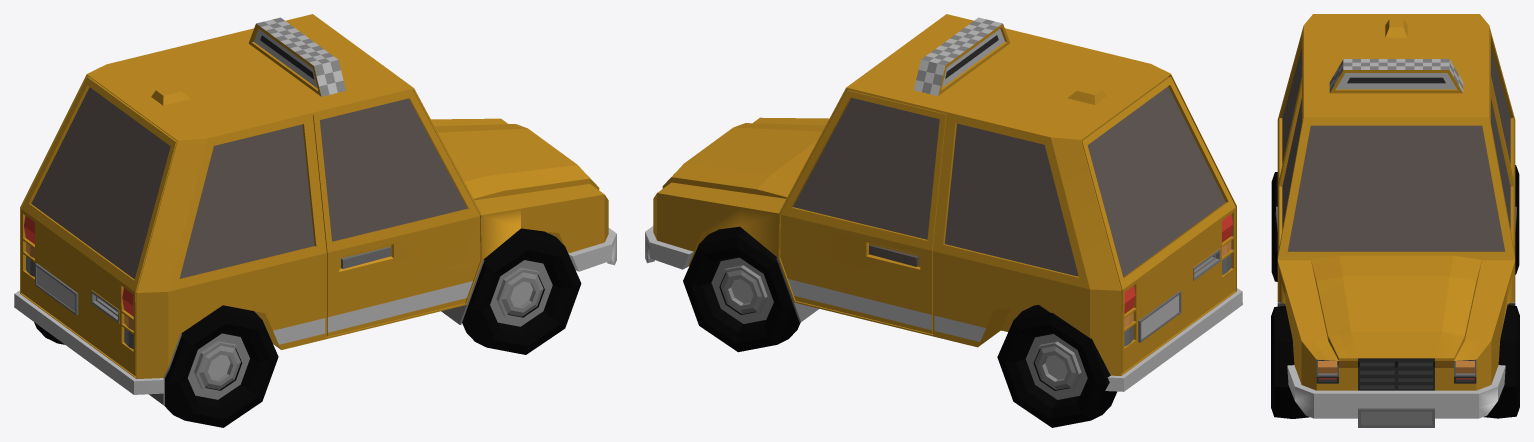
The model's file is Taxi.fbx.
The picture shows the model from 3 angles, left to right: view 1: azimuth 30°, elevation 25°; view 2: azimuth 150°, elevation 25°; view 3: azimuth 270°, elevation 25°; orthographic projection. The views are drawn at different scales.
Visible parts, largest first — view 1: Taxi; view 2: Taxi; view 3: Taxi.
Part boxes in pixels (left/top/right/bottom): Taxi: left=14, top=14, right=616, bottom=427; Taxi: left=645, top=14, right=1242, bottom=427; Taxi: left=1271, top=14, right=1519, bottom=427.
Size of the model in its own units: 2.75 by 1.3 by 1.61.
